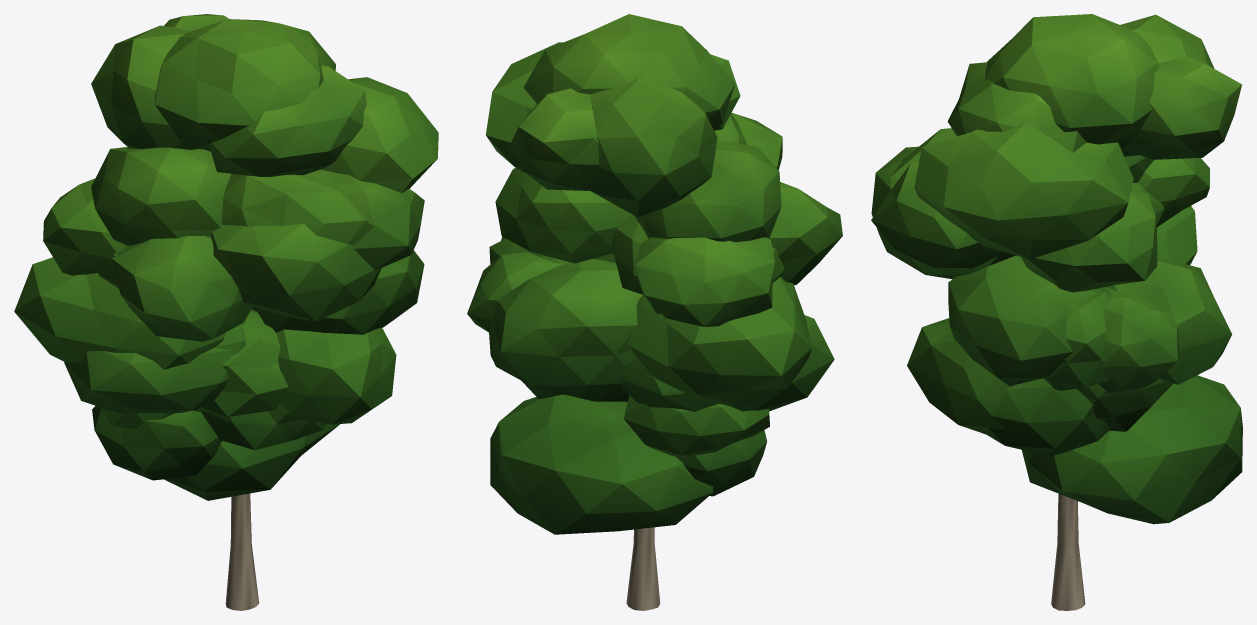
The model's file is red-alder-c.glb.
The picture shows the model from 3 angles, left to right: view 1: azimuth 30°, elevation 25°; view 2: azimuth 150°, elevation 25°; view 3: azimuth 270°, elevation 25°; orthographic projection.
Parts seen in each view (by area): view 1: red-alder-c.Leaves, red-alder-c.Bark; view 2: red-alder-c.Leaves, red-alder-c.Bark; view 3: red-alder-c.Leaves, red-alder-c.Bark.
Part boxes in pixels (x1,y1,x2,y2): red-alder-c.Leaves: [14, 14, 438, 500]; red-alder-c.Bark: [225, 493, 259, 610]; red-alder-c.Leaves: [467, 14, 842, 534]; red-alder-c.Bark: [626, 527, 660, 610]; red-alder-c.Leaves: [871, 14, 1242, 524]; red-alder-c.Bark: [1051, 493, 1085, 610].
Size of the model in its own units: 8.28 by 13.01 by 7.6.
